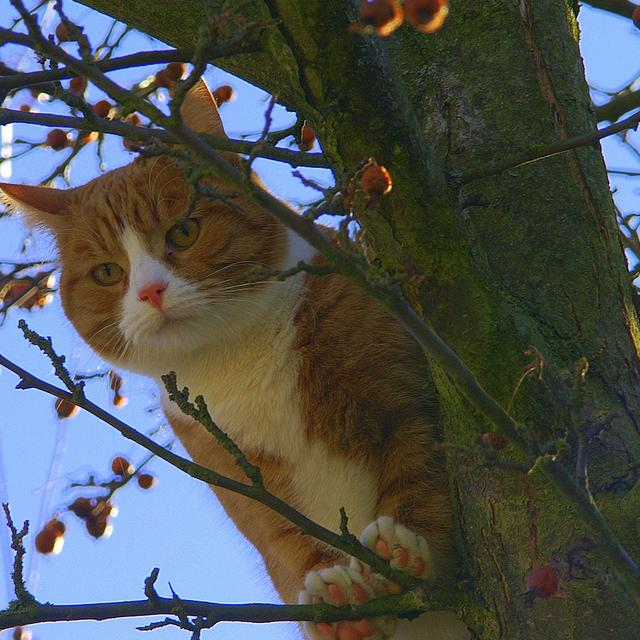animals: (0, 72, 227, 305)
